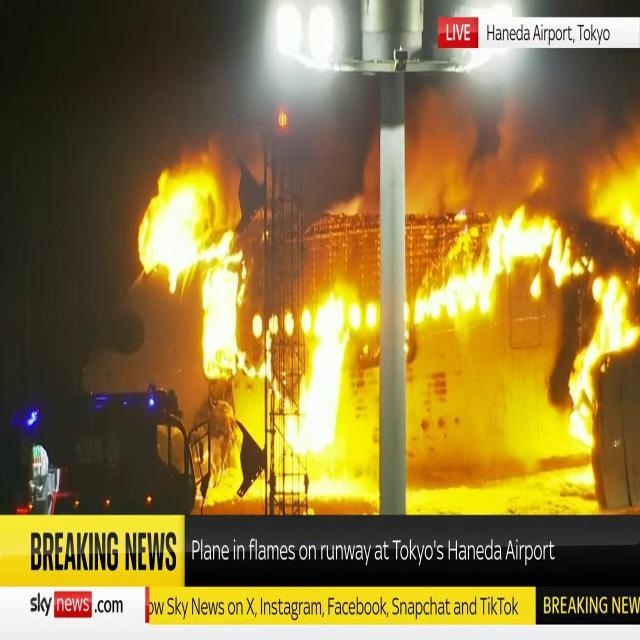Fire: (555, 142, 640, 461), (134, 164, 253, 378), (406, 196, 574, 332), (284, 274, 380, 489), (285, 274, 379, 474)
Smoke: (406, 4, 640, 192)
